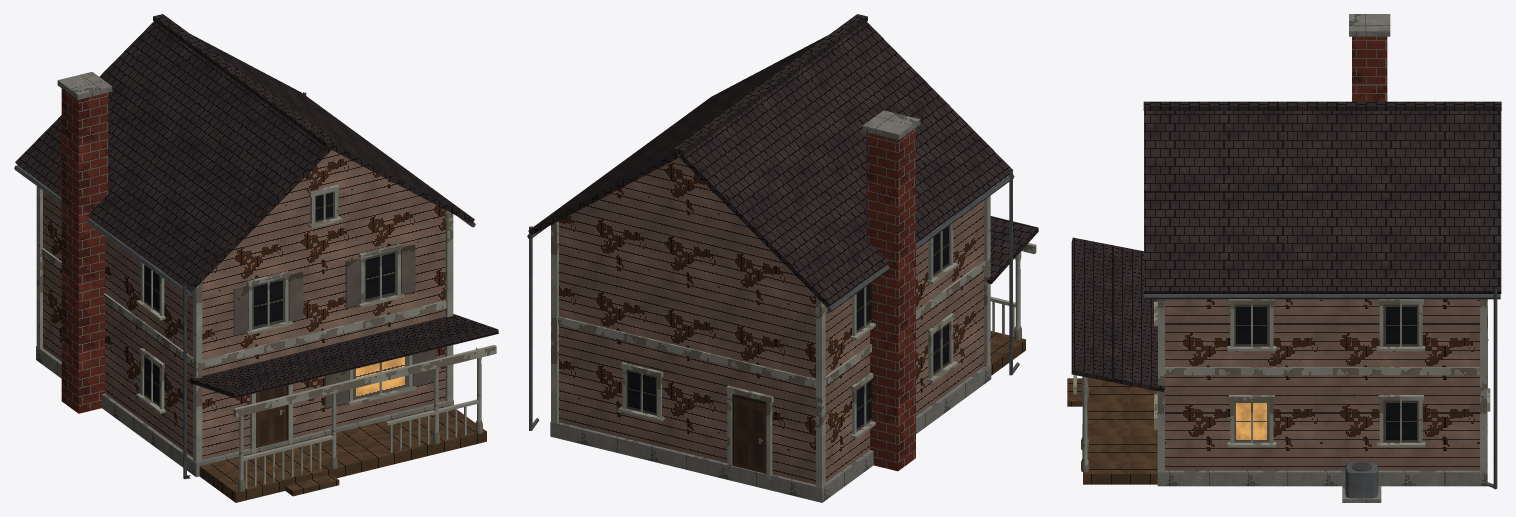
File: town_house_f.glb
3 views of the same model, side by side, from view 1: azimuth 30°, elevation 25°; view 2: azimuth 150°, elevation 25°; view 3: azimuth 270°, elevation 25° (orthographic). The views are drawn at different scales.
Visible parts, largest first — view 1: detail, shell-col; view 2: detail, shell-col; view 3: detail, shell-col.
Boxes of the visible parts, left/top/right/bottom form: detail: left=14, top=14, right=498, bottom=491; shell-col: left=36, top=185, right=486, bottom=502; detail: left=527, top=14, right=1038, bottom=487; shell-col: left=550, top=193, right=1025, bottom=502; detail: left=1071, top=14, right=1501, bottom=502; shell-col: left=1067, top=299, right=1487, bottom=486.
Size of what is drawn, in the model's own units: 9.58 by 9.27 by 11.06.
Materials: 14 (14 with a texture image).
